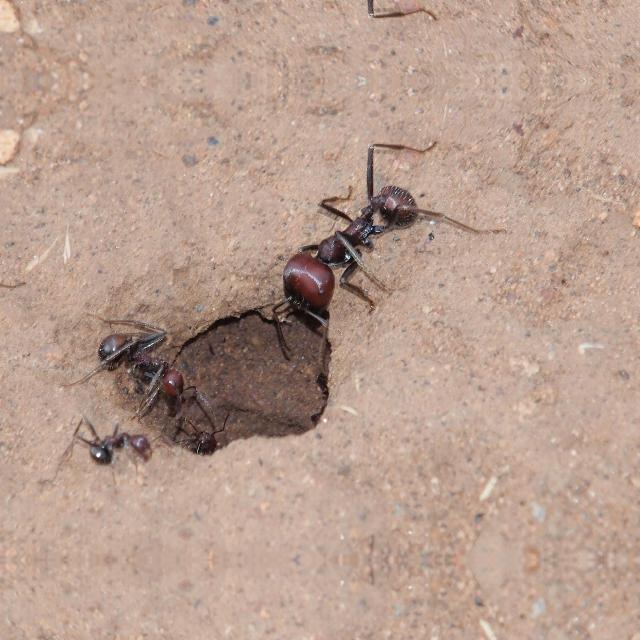Messor: (277, 142, 441, 326), (66, 313, 194, 419), (46, 406, 164, 486)
